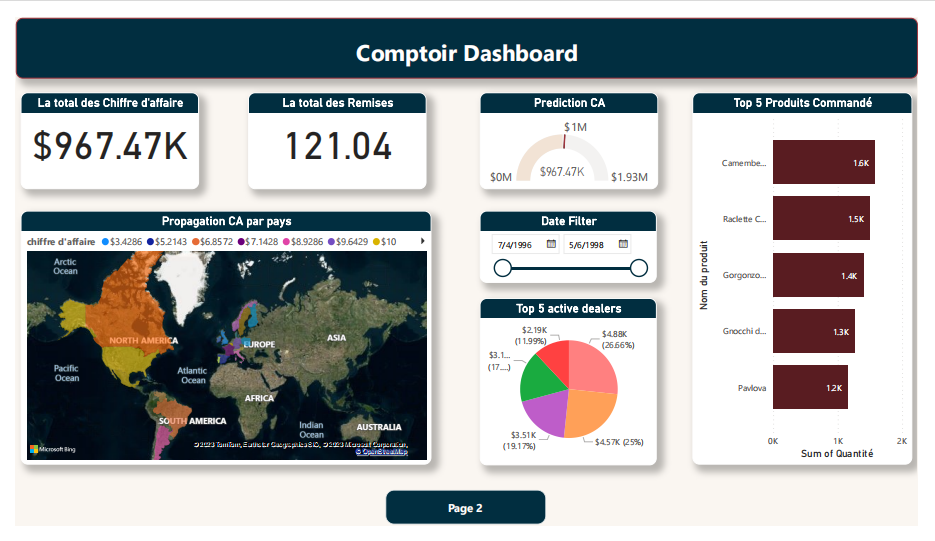

The page's visual inventory and layout, read from the dashboard file:
{"tool":"powerbi","page":{"name":"Page 1","canvas":[1280,720],"ordinal":0},"visuals":[{"type":"pageNavigator","box":[596,668.9,227.1,50.9],"z":2000},{"type":"textbox","box":[0,0,1280,80.6],"z":2001},{"type":"card","title":"La total des chiffres d''affaire","fields":{"Values":["Sum(Détails commandes.Prix total new)"]},"box":[33.6,90.7,241.9,168],"z":2004},{"type":"card","title":"La total des Remises","fields":{"Values":["Sum(Détails commandes.Remise (%))"]},"box":[324.2,90.7,241.9,168],"z":2005},{"type":"gauge","title":"Prediction CA","fields":{"Y":["Sum(Détails commandes.Prix total new)"],"TargetValue":["Détails commandes.target prix total"]},"box":[616.5,90.7,327.6,168],"z":2006},{"type":"barChart","title":"Prediction CA","fields":{"Category":["Produits.Nom du produit"],"Y":["Sum(Détails commandes.Quantité)"]},"box":[957.5,90.7,305.7,549.3],"z":2007},{"type":"pieChart","title":"Top 5 active dealers","fields":{"Category":["Fournisseurs.N° fournisseur"],"Y":["Sum(Détails commandes.Prix unitaire)"]},"box":[616.5,428.3,327.6,211.7],"z":2008},{"type":"slicer","title":"Date Filter","fields":{"Values":["Commandes.Date commande"]},"box":[616.5,272.1,327.6,136.1],"z":2009},{"type":"esriVisual","title":"La total des Remises","fields":{"Location":["Commandes.Pays livraison"],"Color":["Commandes.Pays livraison"],"Size":["Sum(Détails commandes.Prix total)"]},"box":[33,272.5,562.9,379.9],"z":2010}]}

Visuals, with their boxes in screenshot pixels (x1, y1, x2, y2), scaled from the page's 1280x720 canvas onto the 935x541 screenshot:
pageNavigator: {"x1": 435, "y1": 503, "x2": 601, "y2": 540}
textbox: {"x1": 0, "y1": 0, "x2": 934, "y2": 61}
"La total des chiffres d''affaire" card: {"x1": 25, "y1": 68, "x2": 201, "y2": 194}
"La total des Remises" card: {"x1": 237, "y1": 68, "x2": 414, "y2": 194}
"Prediction CA" gauge: {"x1": 450, "y1": 68, "x2": 690, "y2": 194}
"Prediction CA" barChart: {"x1": 699, "y1": 68, "x2": 923, "y2": 481}
"Top 5 active dealers" pieChart: {"x1": 450, "y1": 322, "x2": 690, "y2": 481}
"Date Filter" slicer: {"x1": 450, "y1": 204, "x2": 690, "y2": 307}
"La total des Remises" esriVisual: {"x1": 24, "y1": 205, "x2": 435, "y2": 490}
